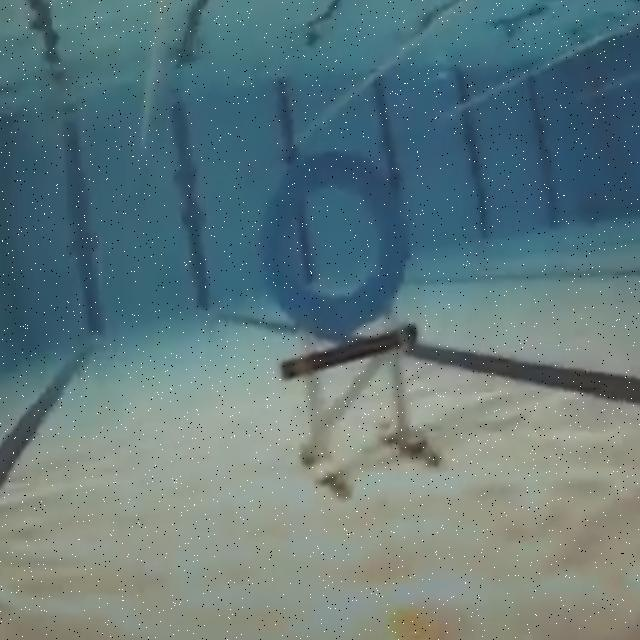Circle: (265, 146, 408, 336)
